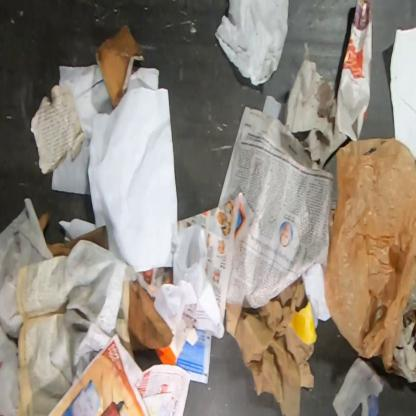cardboard: (93, 23, 144, 111), (45, 225, 109, 258), (38, 209, 52, 235)
soft_plastic: (323, 137, 416, 374), (214, 0, 290, 87), (401, 270, 415, 317), (404, 309, 415, 326)
